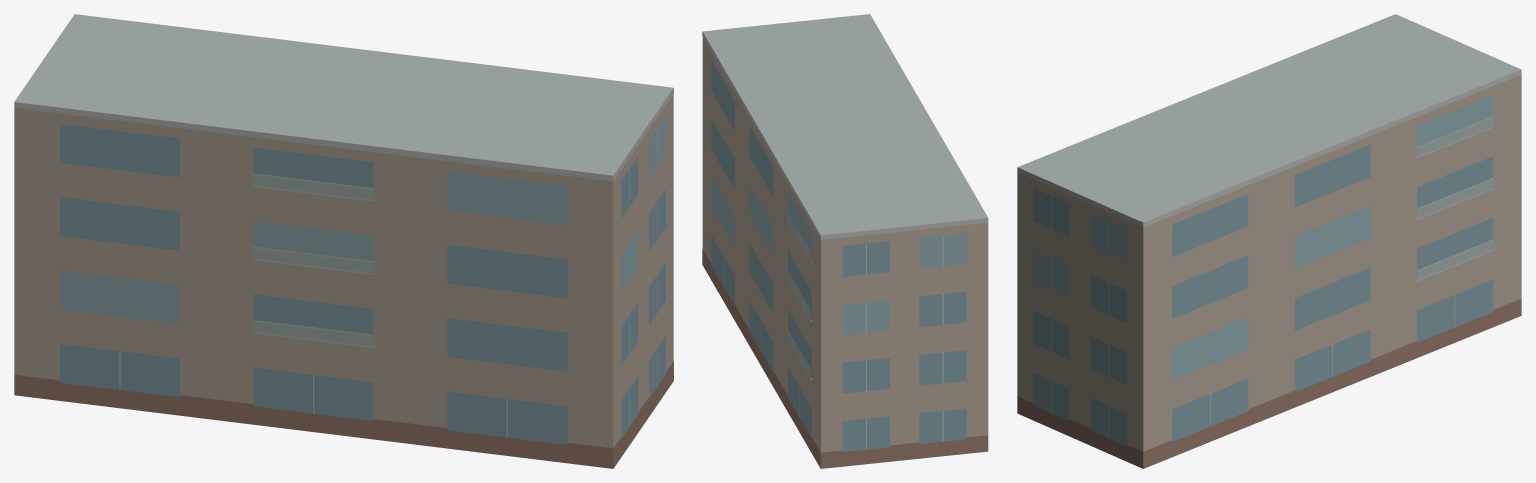
Rendered from residential-be18119b-9aa3-447a-8e13-8080496ba68d.glb.
The picture shows the model from 3 angles, left to right: view 1: azimuth 30°, elevation 25°; view 2: azimuth 150°, elevation 25°; view 3: azimuth 270°, elevation 25°; orthographic projection. The views are drawn at different scales.
Parts seen in each view (by area): view 1: residential-be18119b-9aa3-447a-8e13-8080496ba68d.tmp; view 2: residential-be18119b-9aa3-447a-8e13-8080496ba68d.tmp; view 3: residential-be18119b-9aa3-447a-8e13-8080496ba68d.tmp.
Boxes of the visible parts, <box> form: residential-be18119b-9aa3-447a-8e13-8080496ba68d.tmp: <box>14,14,673,468</box>; residential-be18119b-9aa3-447a-8e13-8080496ba68d.tmp: <box>702,14,988,468</box>; residential-be18119b-9aa3-447a-8e13-8080496ba68d.tmp: <box>1017,14,1521,468</box>.
Size of the model in its own units: 22.18 by 12.2 by 22.65.
